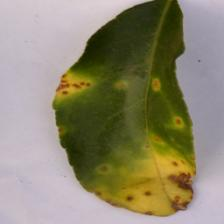canker: (45, 51, 224, 224)
